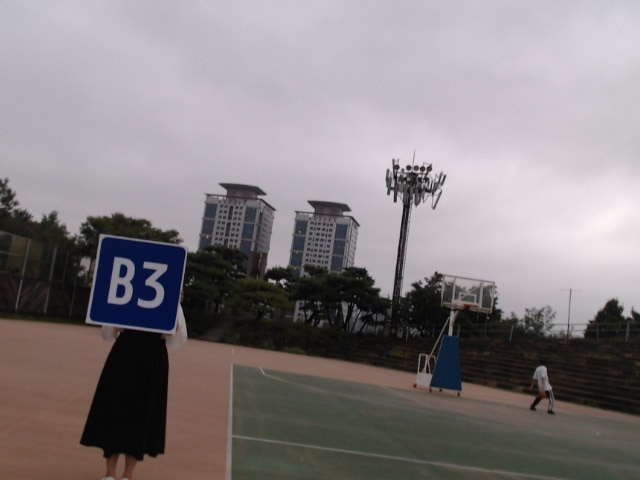delivery_b3: (89, 235, 186, 332)
